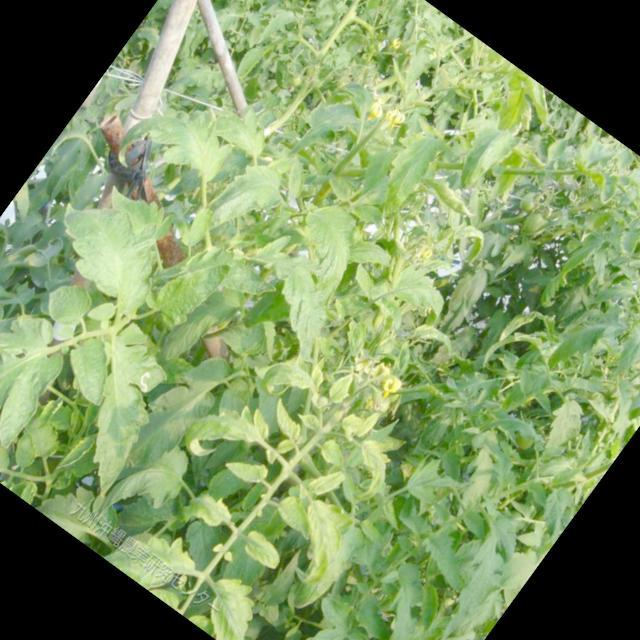Tomato healthy leaf: (29, 172, 192, 330), (106, 80, 248, 219), (0, 272, 89, 473), (136, 236, 235, 341), (185, 82, 288, 173), (47, 326, 133, 416), (36, 270, 100, 334)
Tomato target spot leaf: (30, 324, 198, 506)
Tomato yellow virus leaf: (226, 244, 364, 376), (270, 192, 386, 308), (352, 117, 458, 236), (178, 379, 278, 482), (267, 494, 360, 594), (191, 568, 286, 640), (333, 430, 411, 512), (382, 255, 461, 330), (254, 341, 329, 416), (174, 480, 243, 548), (252, 394, 314, 458), (269, 488, 327, 544), (234, 526, 291, 579), (220, 442, 274, 493), (332, 396, 382, 449), (318, 365, 367, 417), (311, 432, 356, 474), (293, 406, 324, 436)
